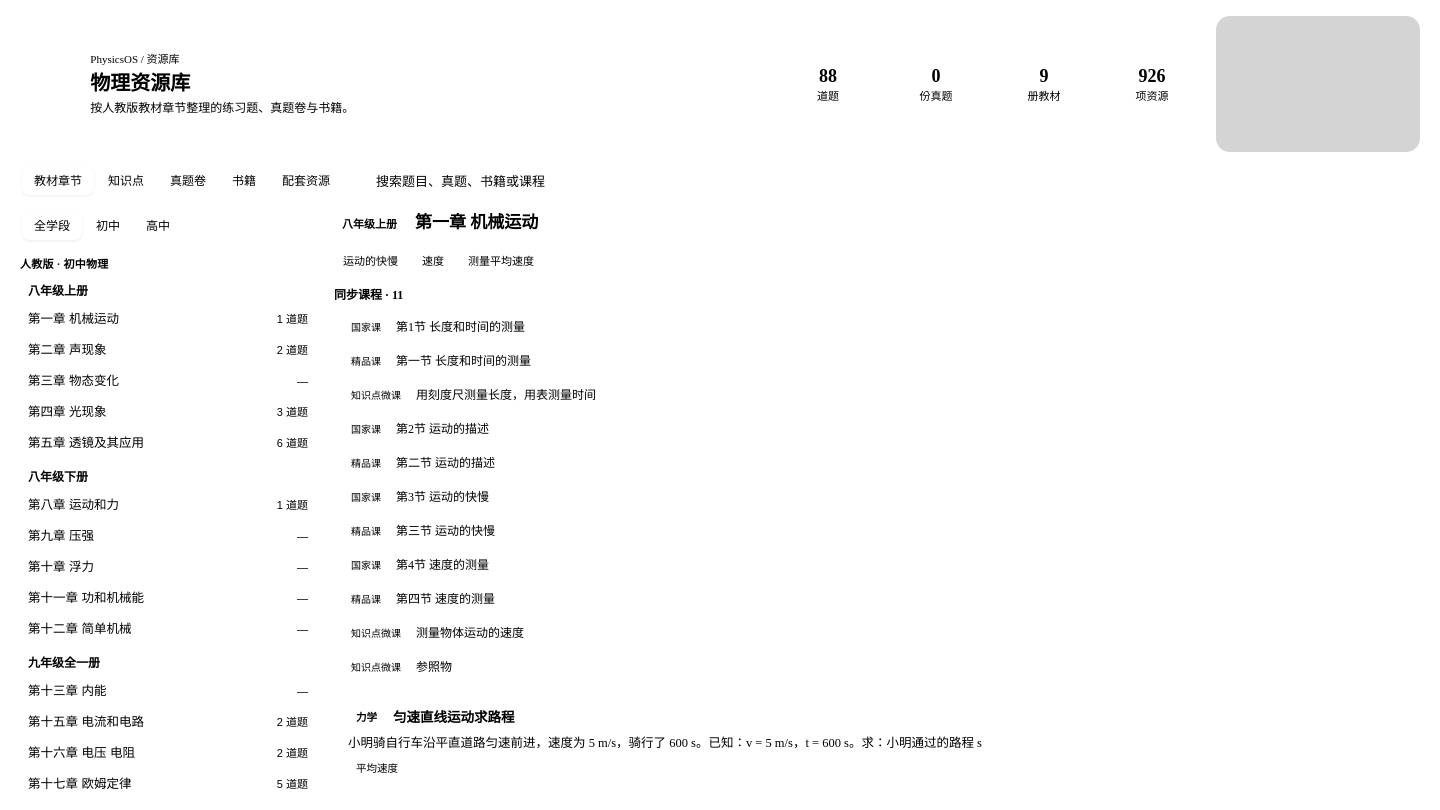
Scenario: LibraryWorkspace 真题卷库 › shows the filtered-empty state when no paper matches
The image size is (1440, 810).
Click the tab "真题卷".
click(188, 181)  # box [158,167,218,195]
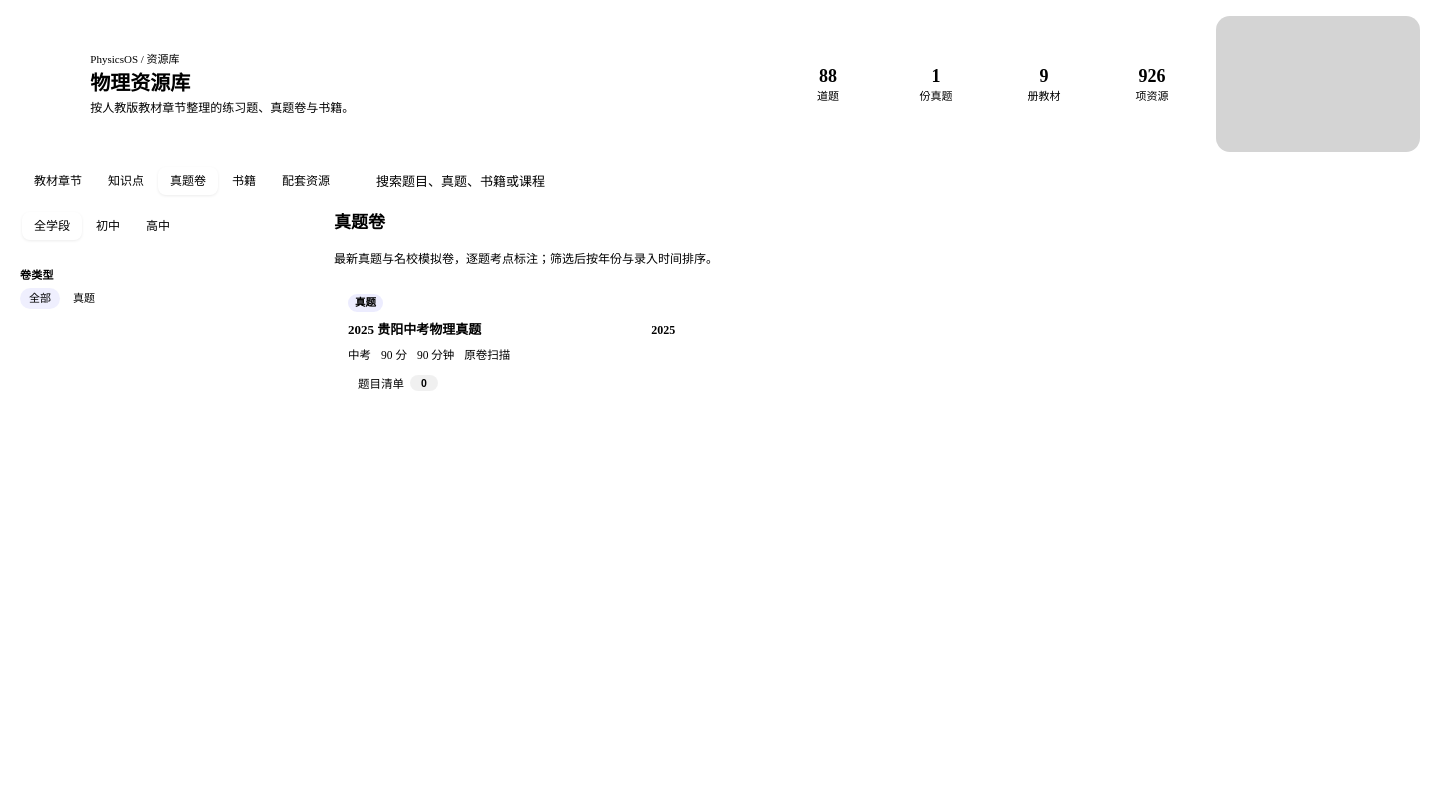
Now the text "最新真题与名校模拟卷，逐题考点标注；筛选后按年份与录入时间排序。" is shown, box [334,252,718,266]
Now the text "2025 贵阳中考物理真题" is shown, box [348,320,481,339]
Click the tab "高中".
click(158, 226)  # box [134,212,182,240]
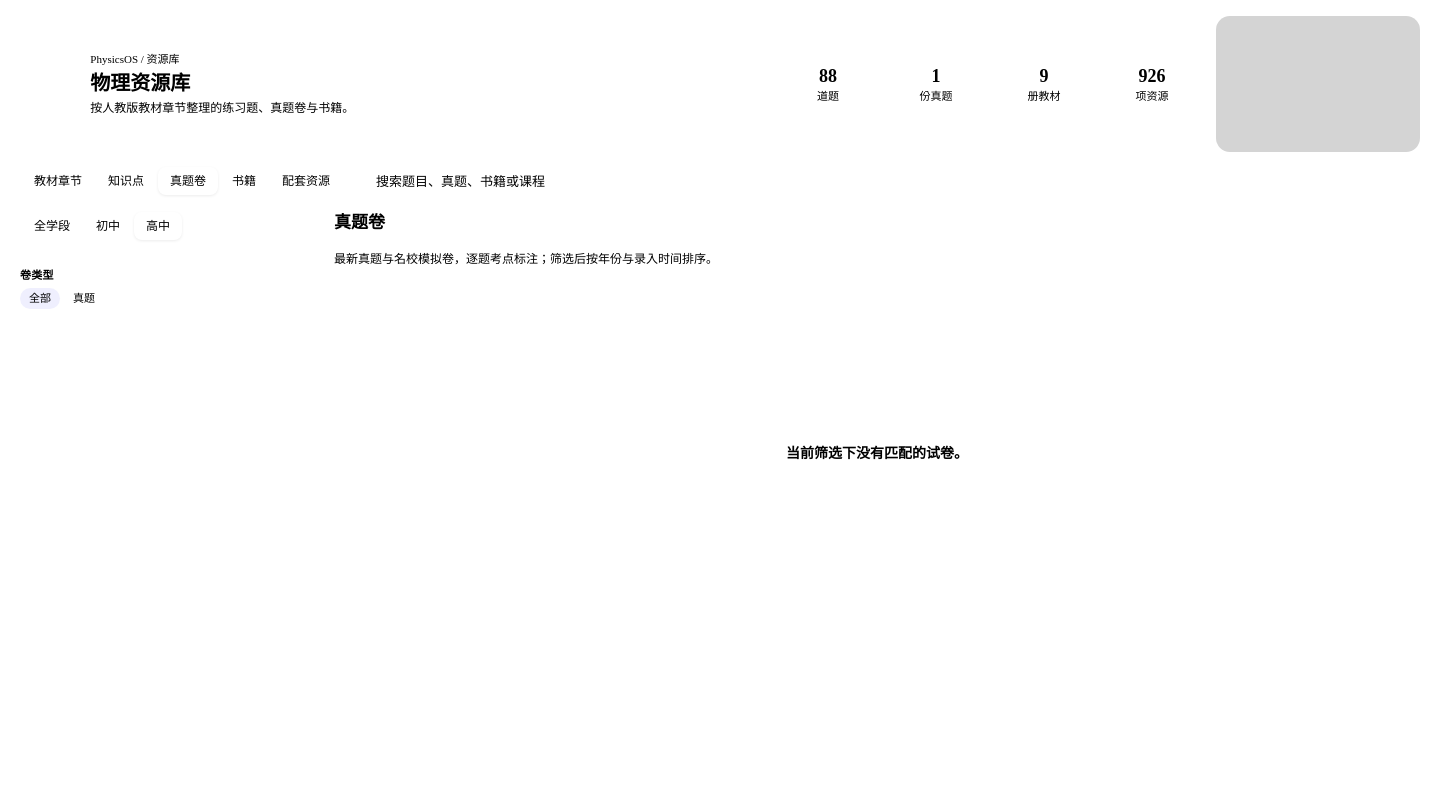
Now the text "当前筛选下没有匹配的试卷。" is shown, box [786,442,968,462]
